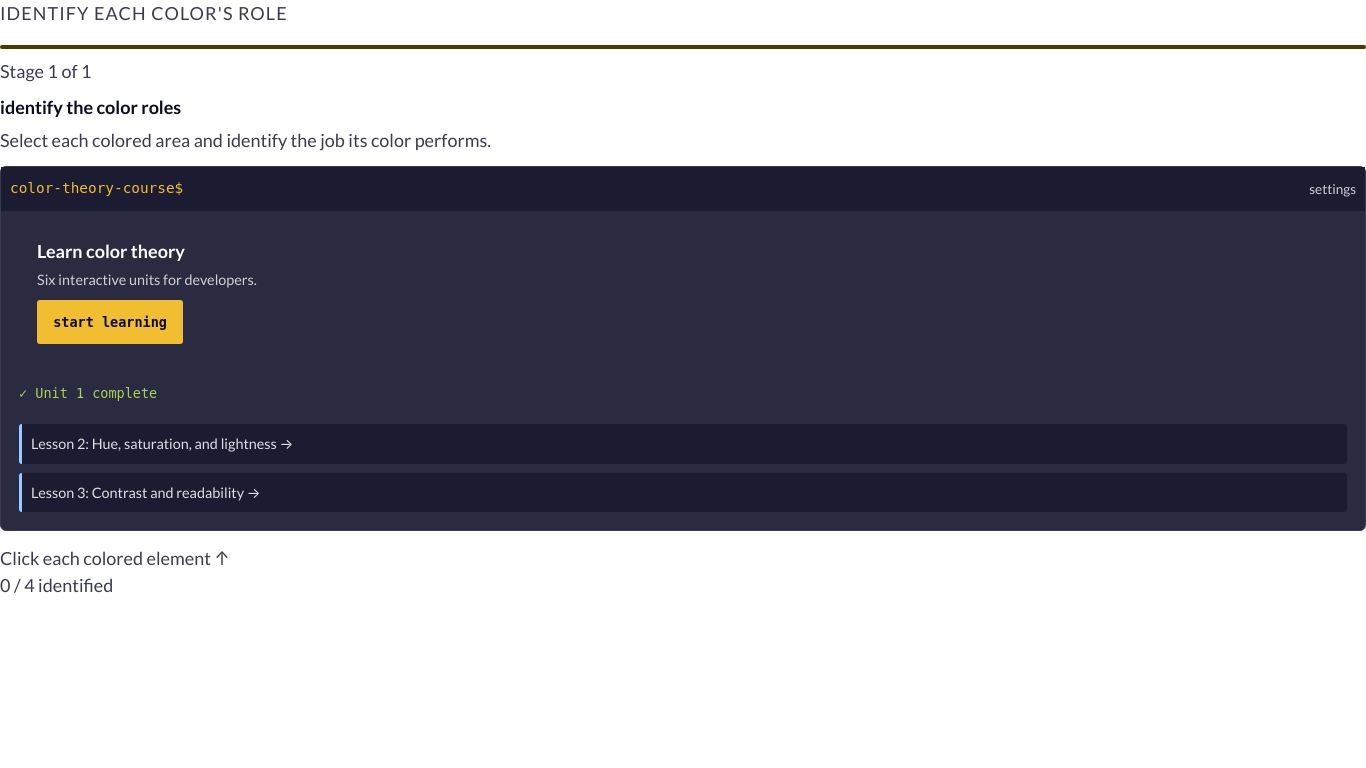
it: BeforeAfterTool color-role keyboard activation › does not grade a selected role until the learner checks it
Click the button with aria-label "nav bar color": click(97, 188) [1, 167, 1365, 211]
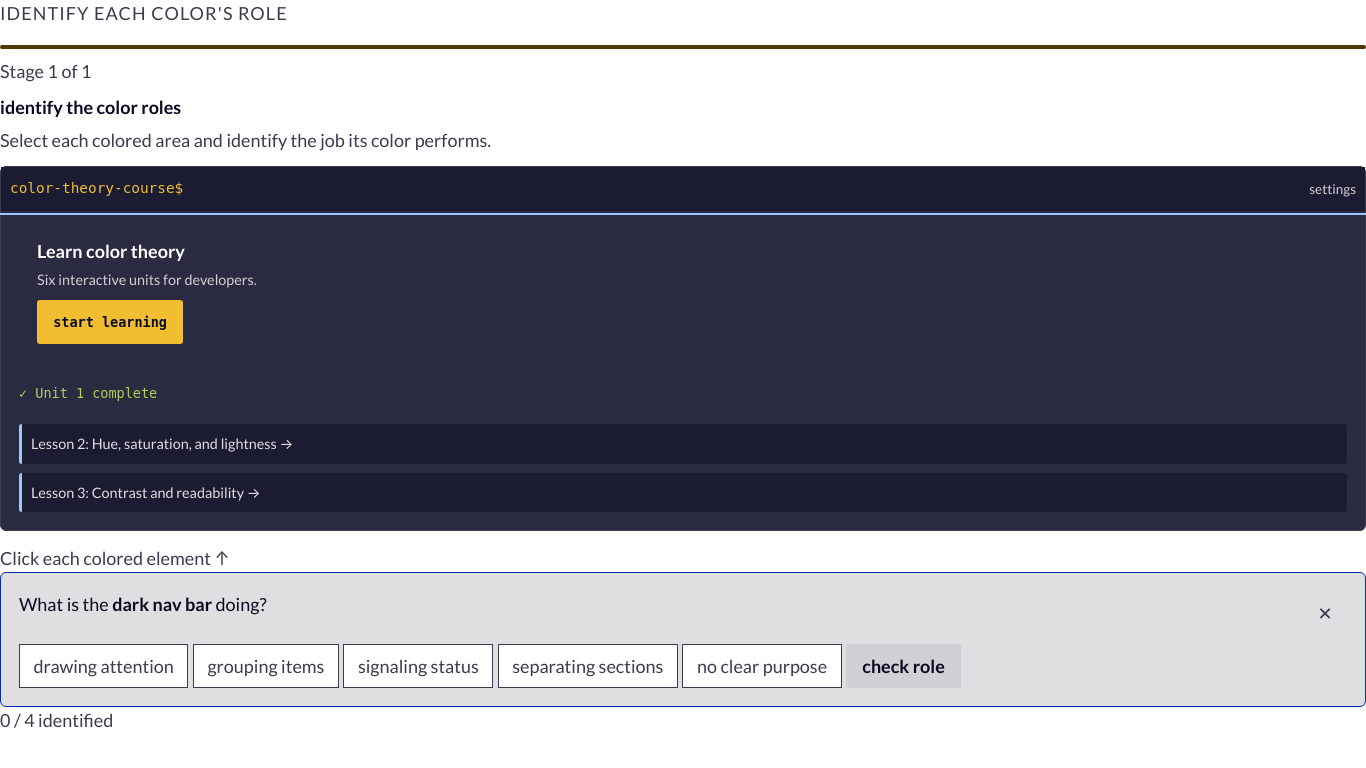
Expected: the button "check role" is disabled, [846, 644, 961, 688]
Click the button "drawing attention": click(104, 666) [19, 644, 188, 688]
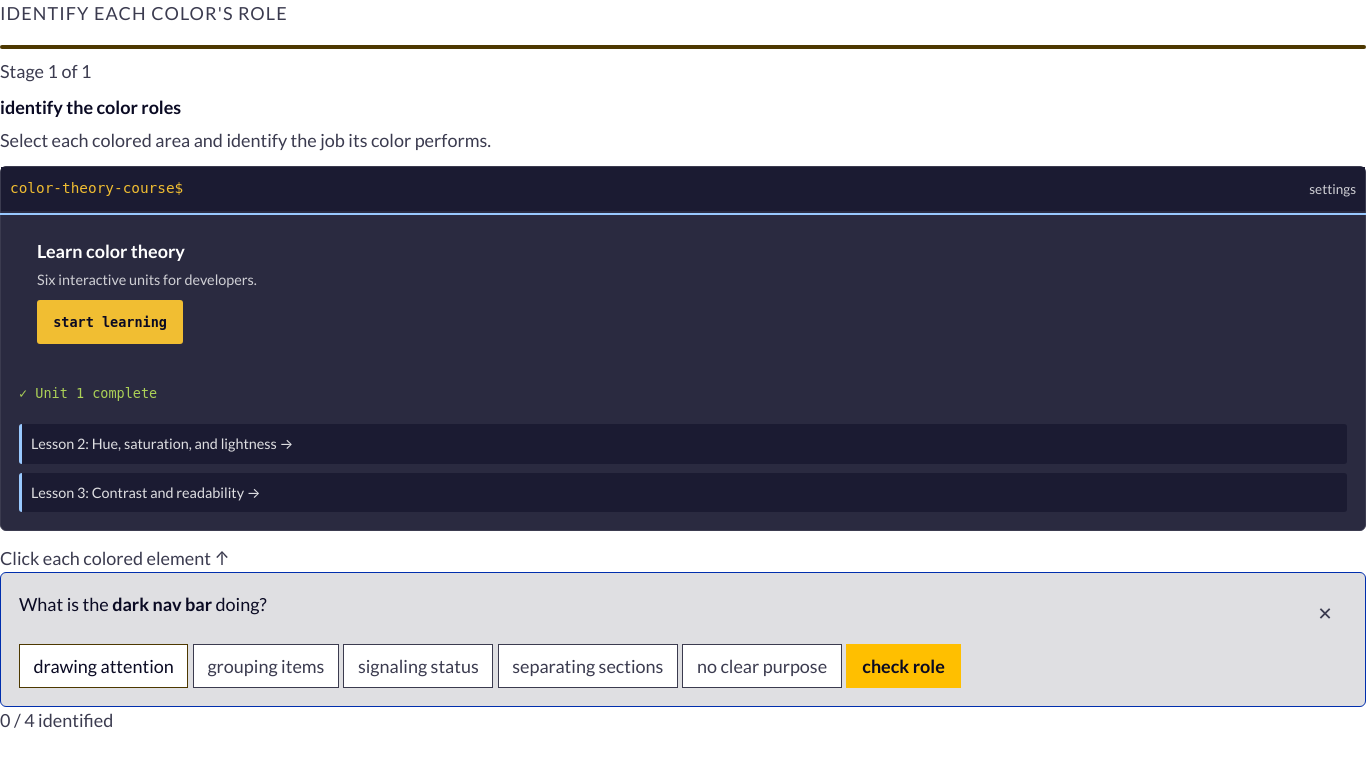
Expected: the button "try stage again" is not shown
Expected: the button "check role" is enabled
Click the button "check role": click(904, 666) [846, 644, 961, 688]
(page scrolled)
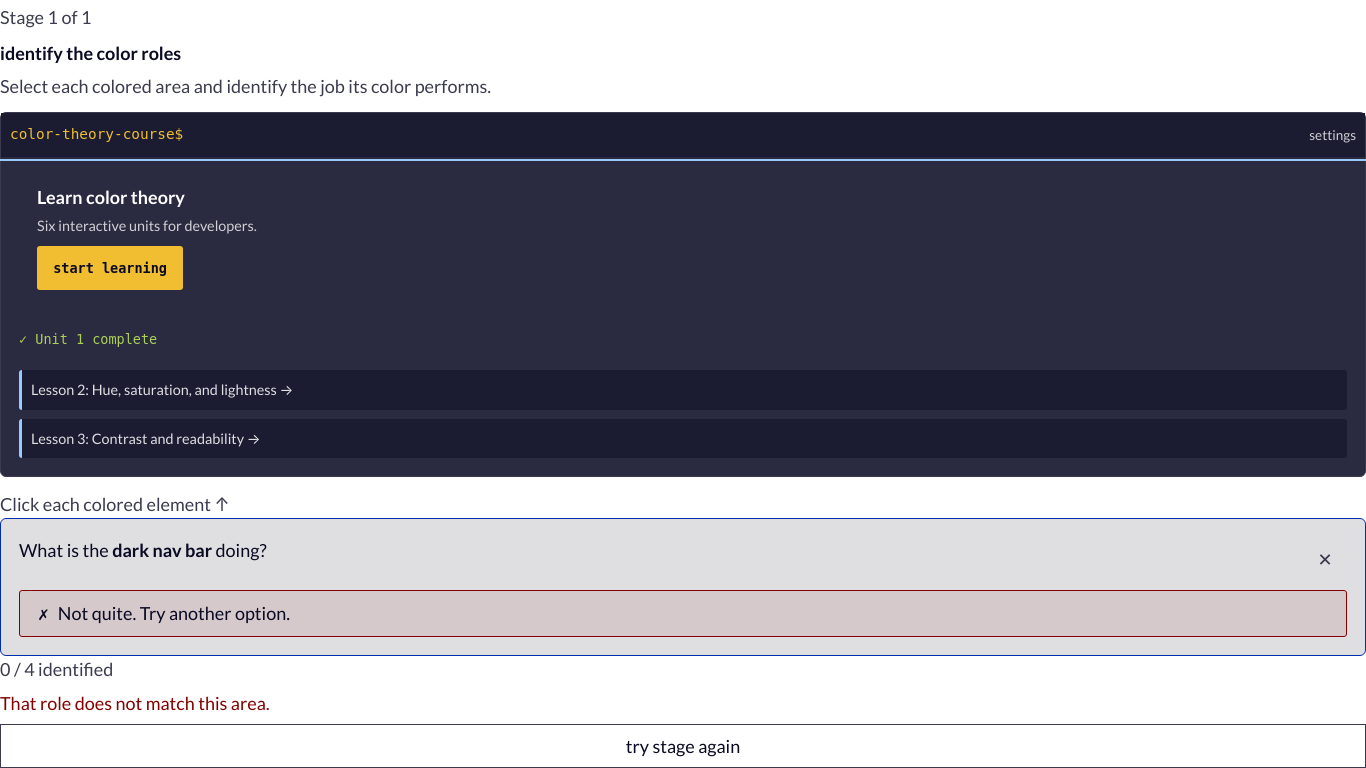
Expected: the button "try stage again" is shown, [0, 724, 1365, 767]
